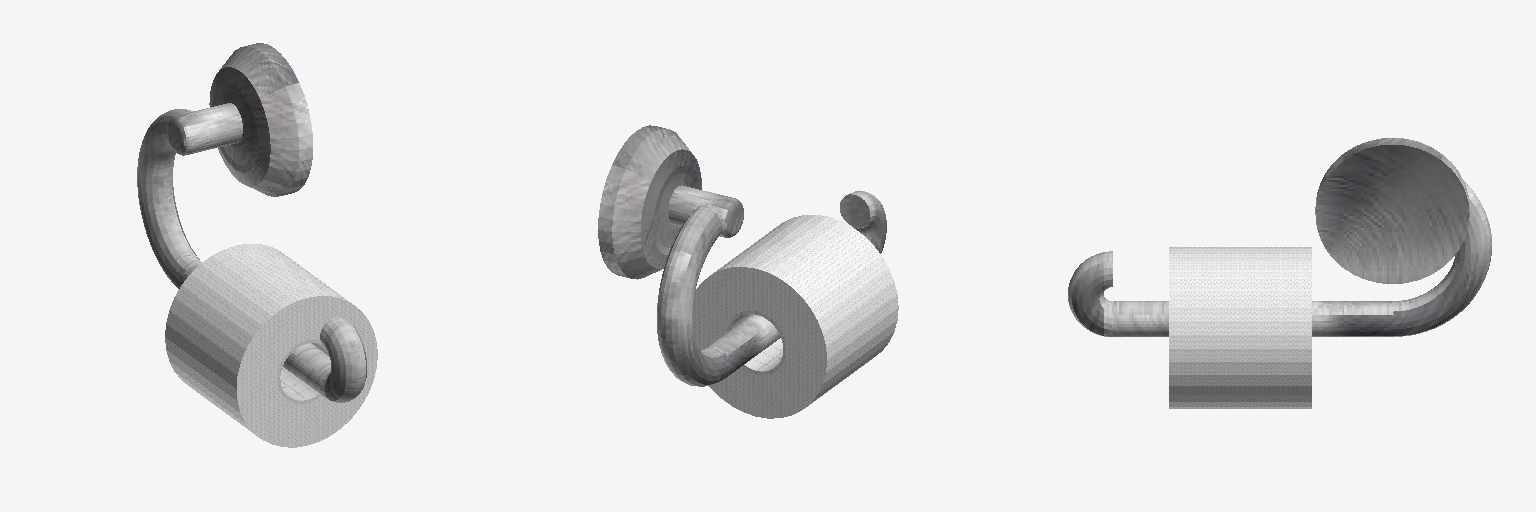
3 renders of one model, left to right at view 1: azimuth 30°, elevation 25°; view 2: azimuth 150°, elevation 25°; view 3: azimuth 270°, elevation 25°, orthographic.
Parts seen in each view (by area): view 1: toiletpaper; view 2: toiletpaper; view 3: toiletpaper.
Boxes of the visible parts, x1=… form: toiletpaper: x1=137, y1=43, x2=377, y2=447; toiletpaper: x1=598, y1=125, x2=898, y2=418; toiletpaper: x1=1068, y1=138, x2=1491, y2=408.
Bounding box in the file's own units: 0.637 × 1.2 × 1.56.
Materials: 3 (3 with a texture image).